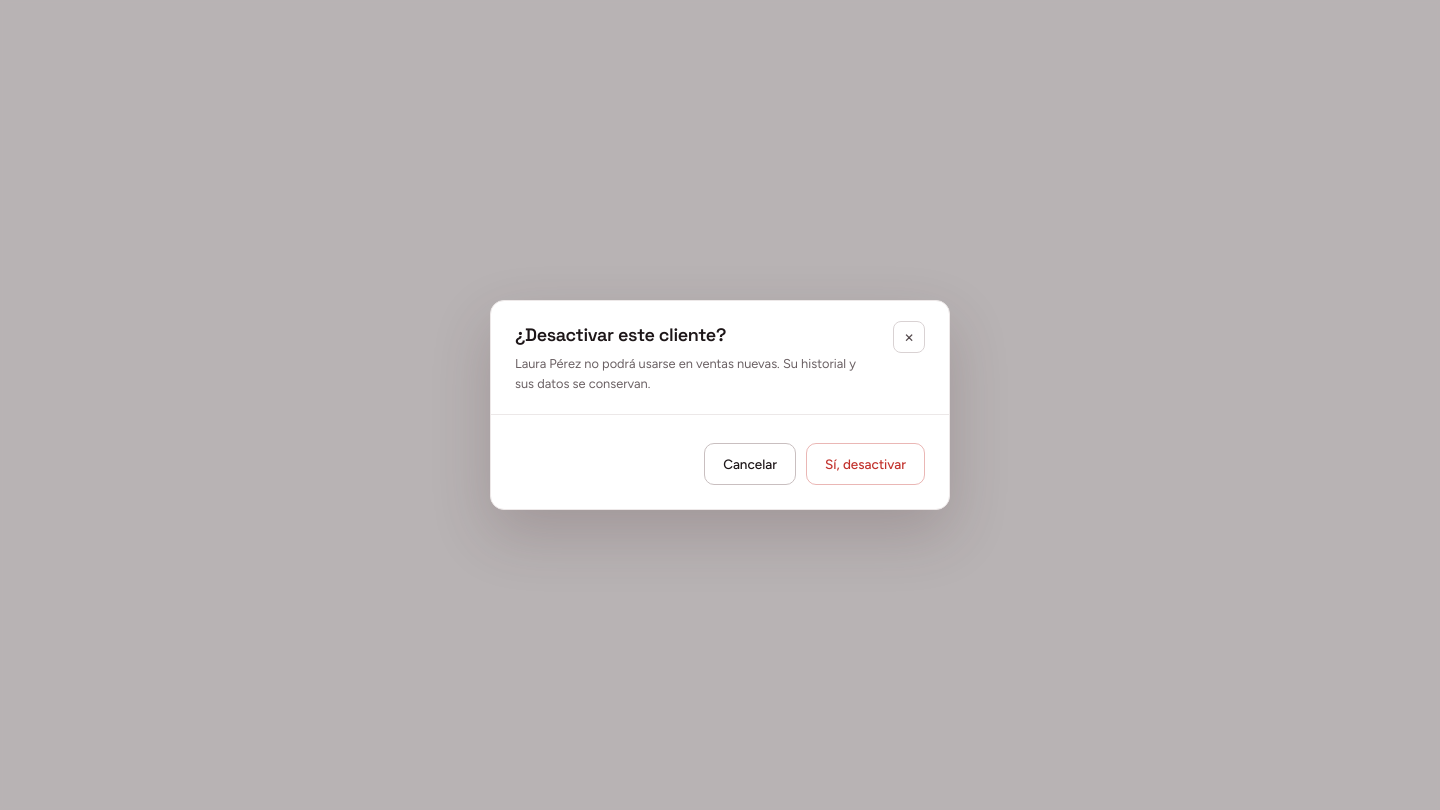
Test case: CustomerStatusModal errors › tells when the customer already had that state
What coordinates should you click on to do the following:
click the button "Sí, desactivar"
I would click on:
 (865, 464)
Its box is [806,443,925,485].
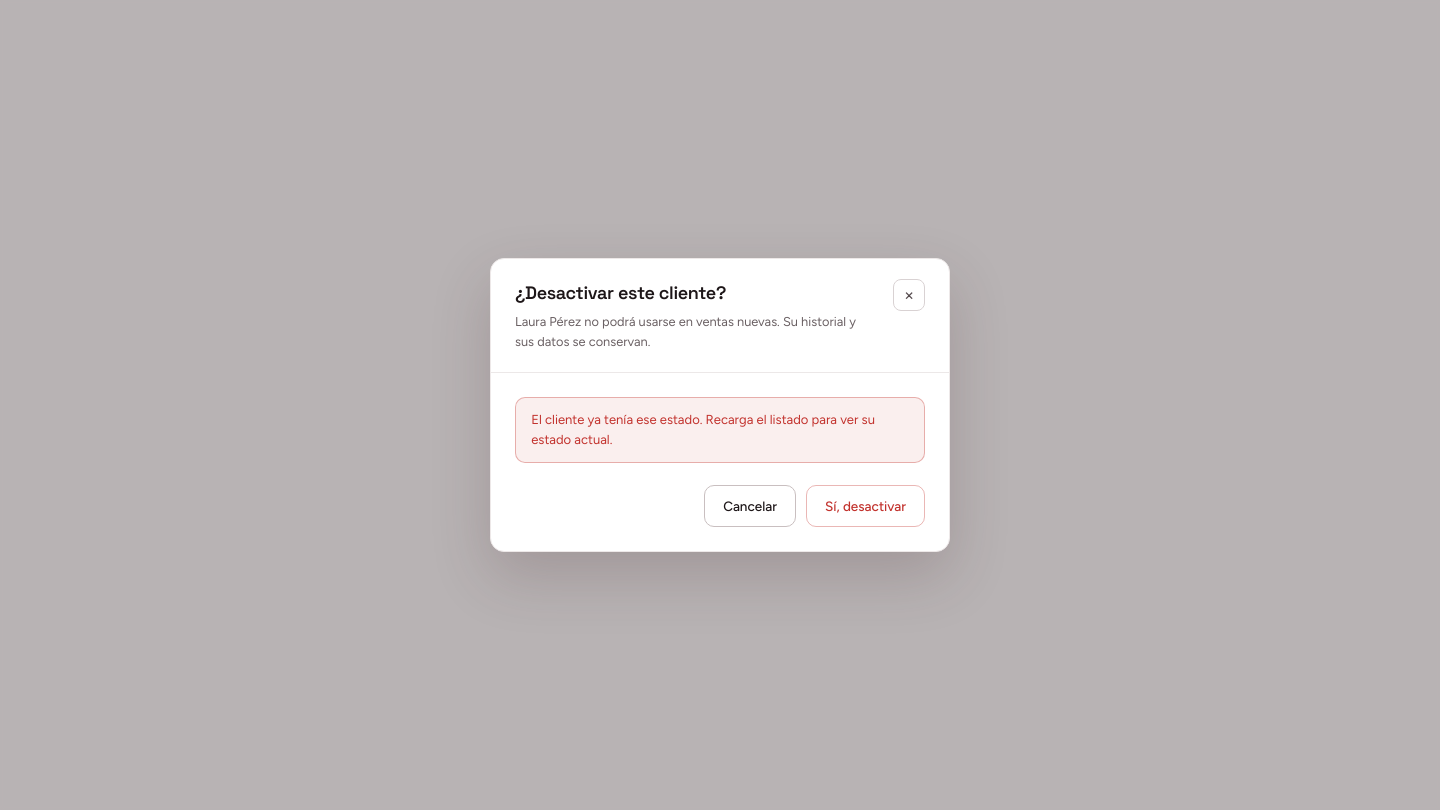
Now the message reads "El cliente ya tenía ese estado. Recarga el listado para ver su estado actual.", box [531,412,875,447]
